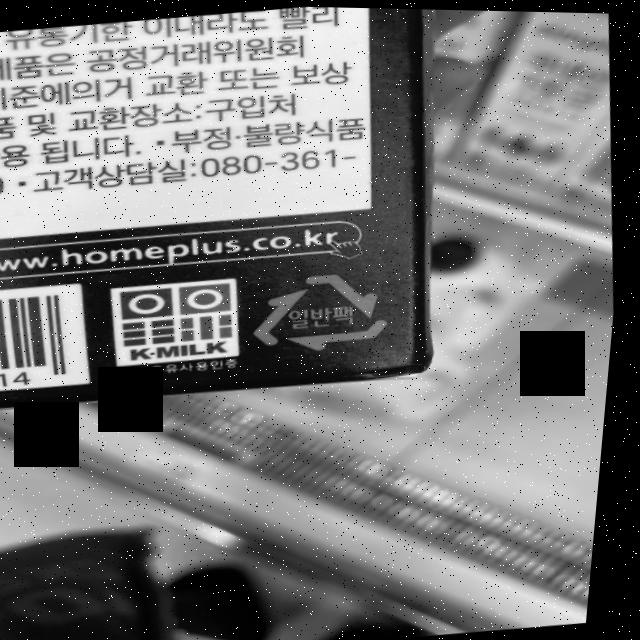NormalPack: (250, 262, 409, 358)
